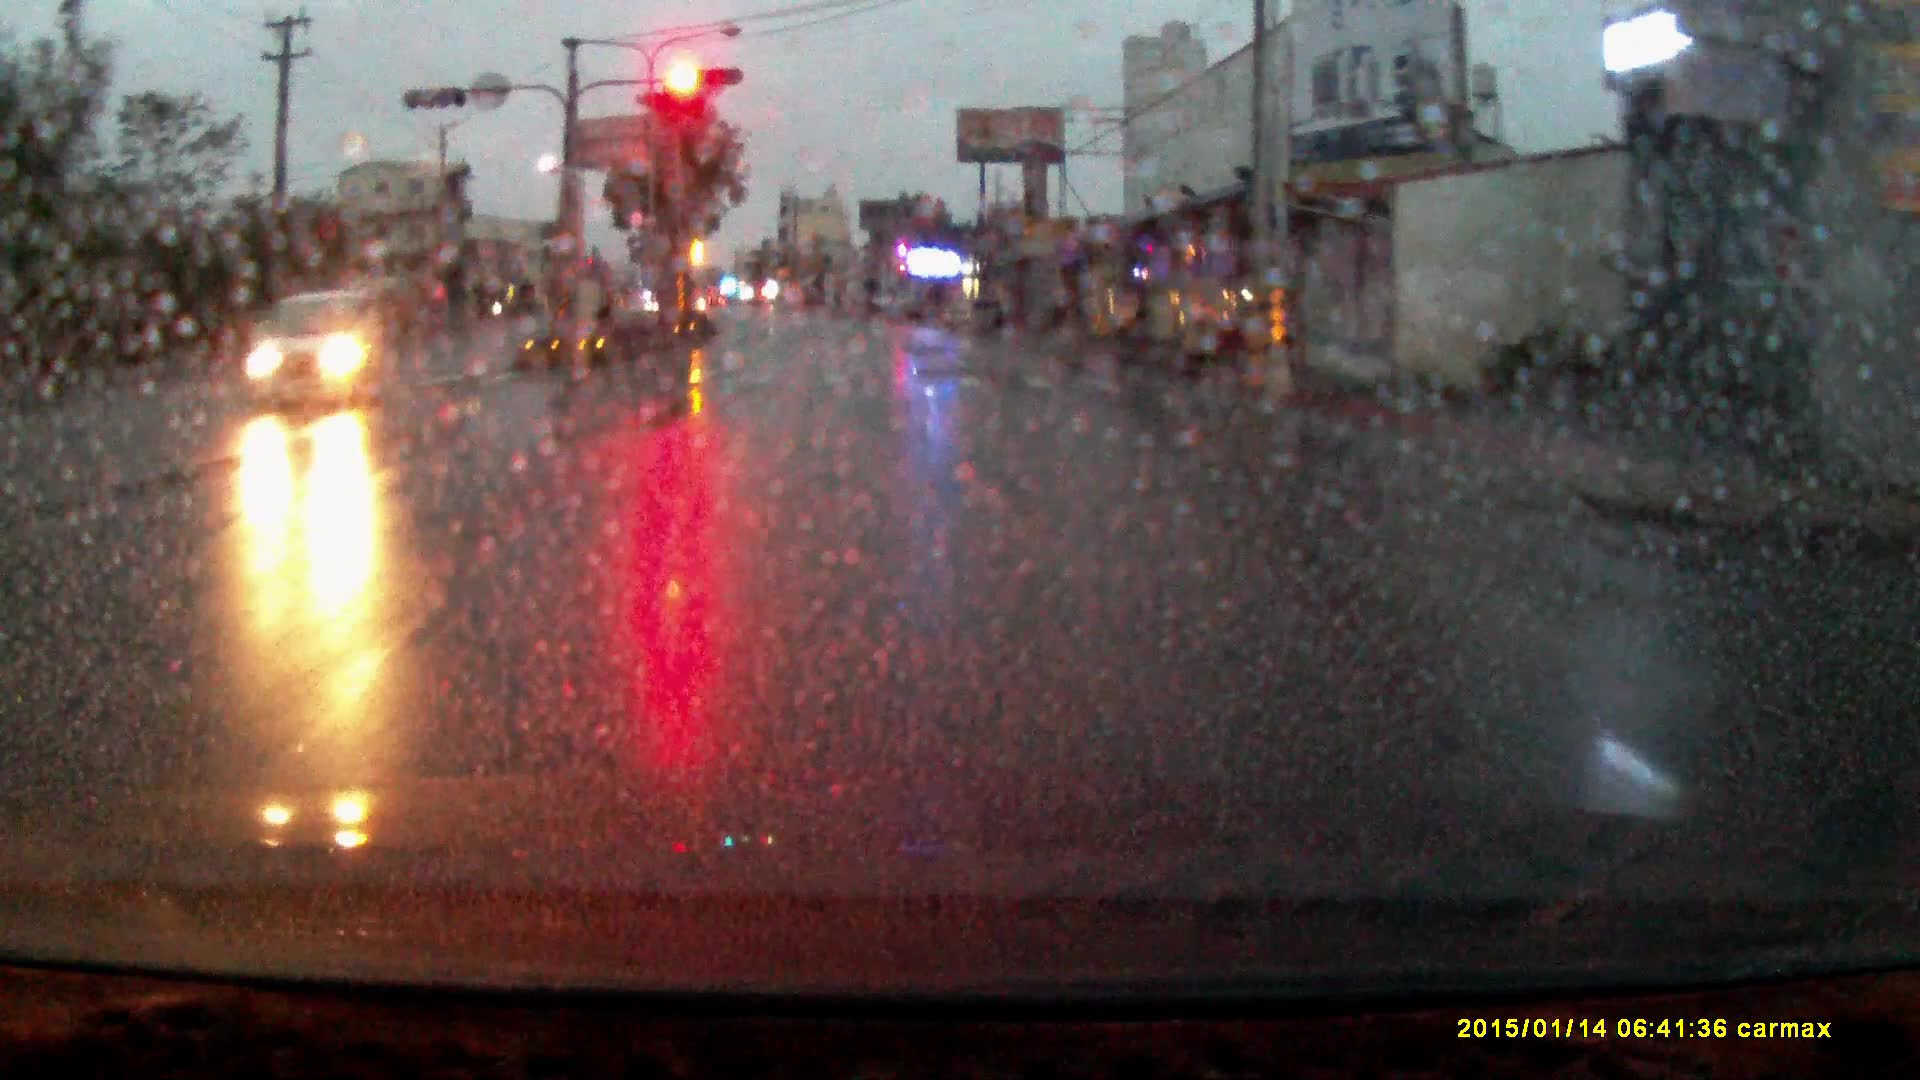vehicle: (237, 287, 386, 413)
